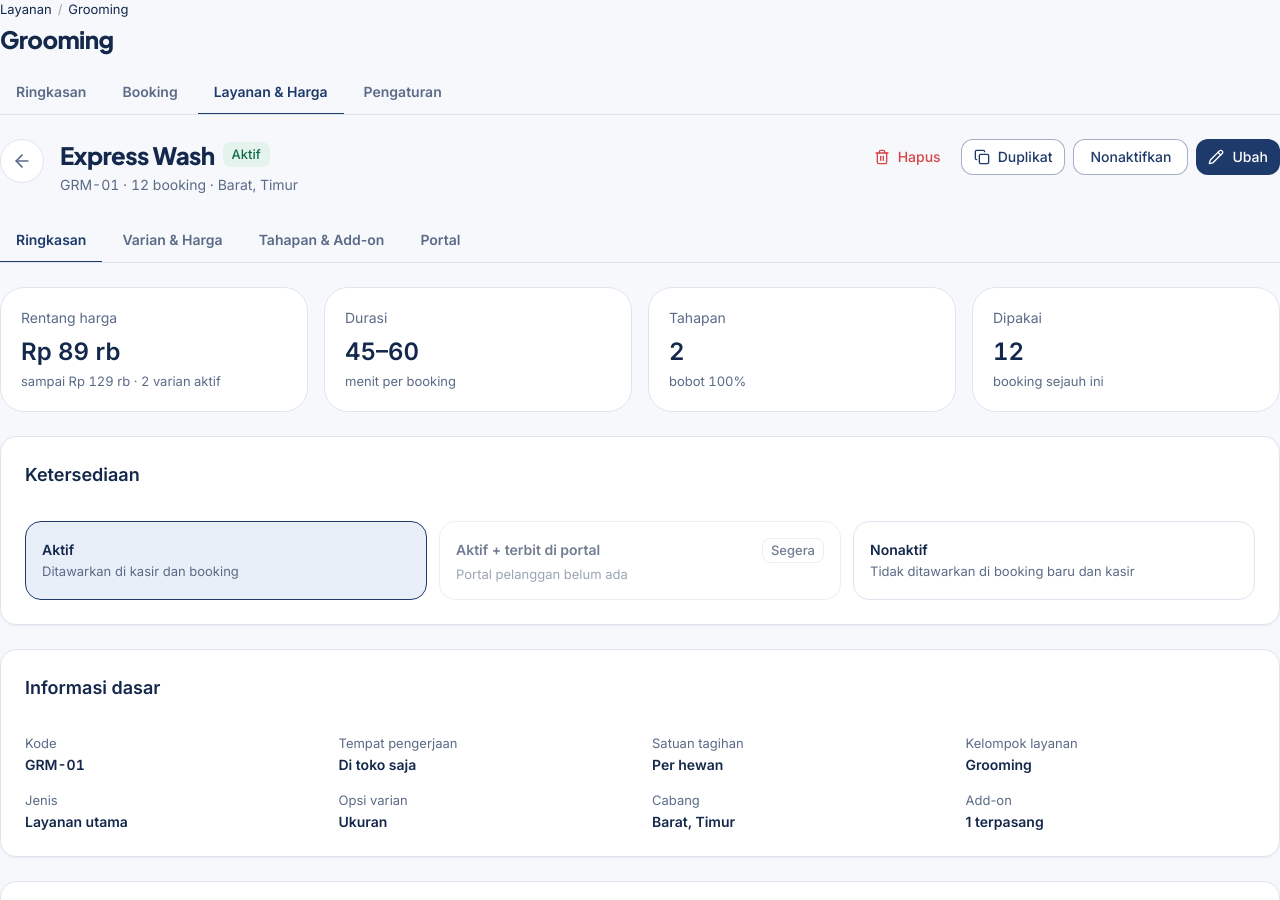
Scenario: GroomingServiceDetailScreen › edits weights and order in place and saves them with one button
Click the tab "Tahapan & Add-on".
click(322, 241)  # box [243,219,400,263]
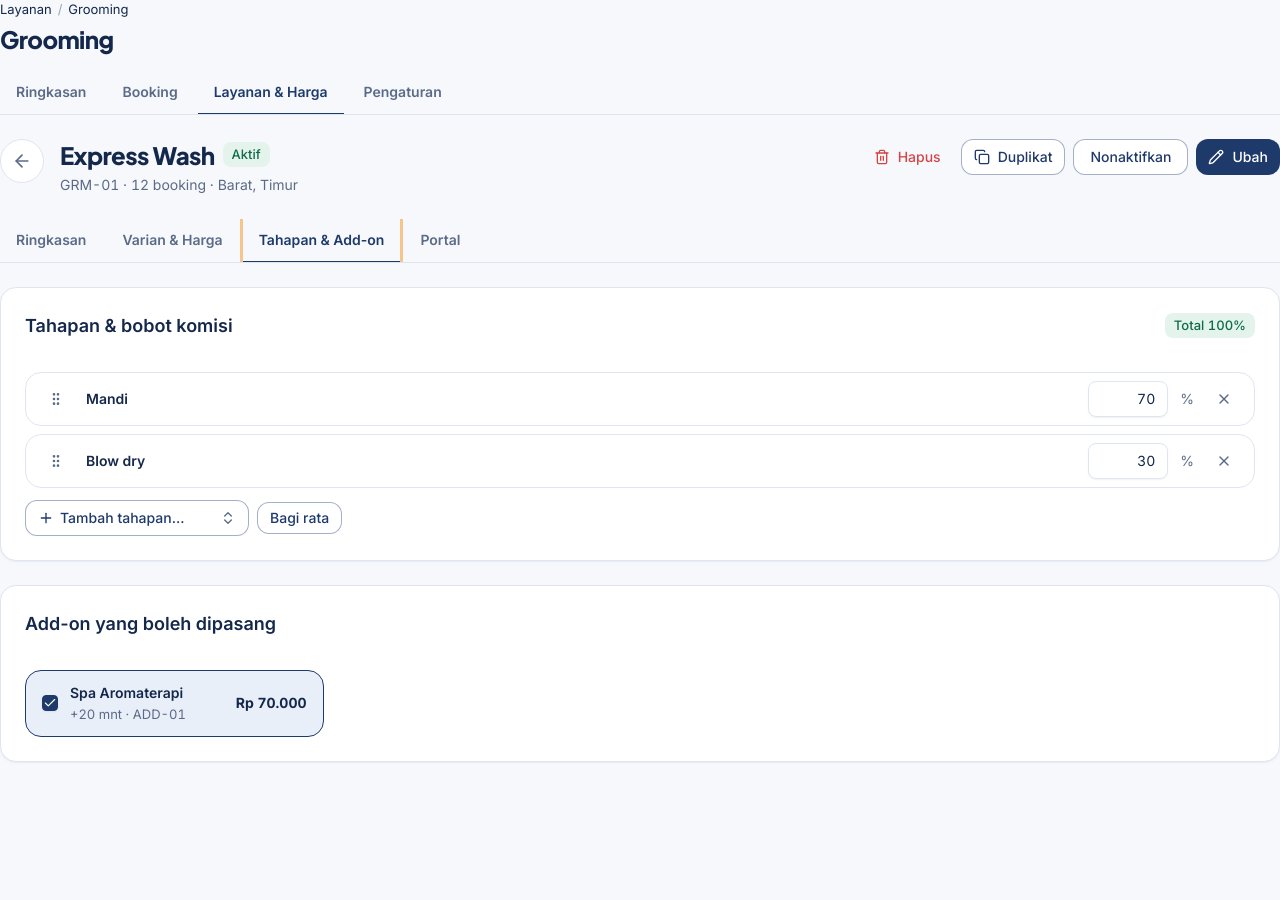
Clear the field named "Bobot Mandi (%)" at [1128, 399], box [1088,381,1168,417]
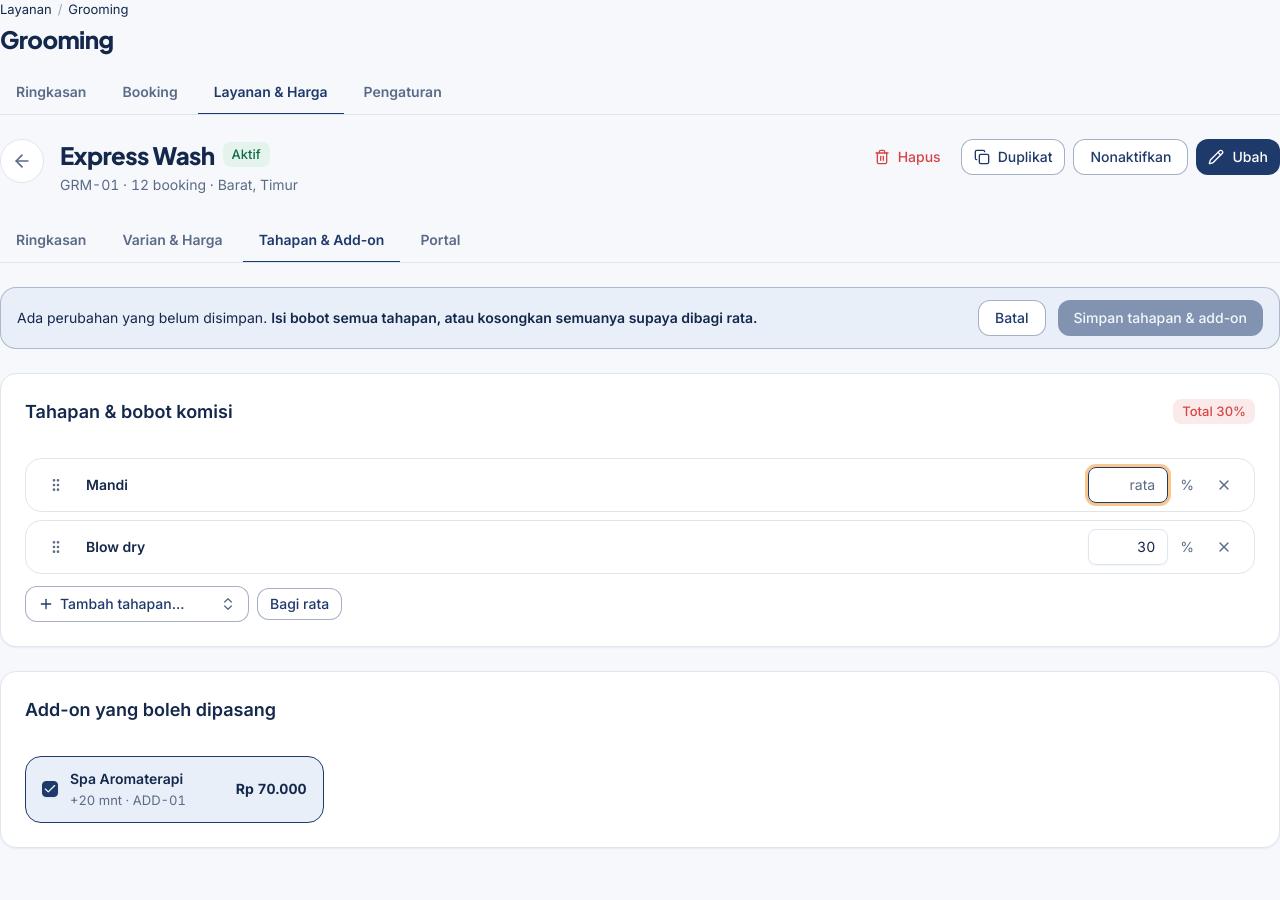
Type "60" into the field named "Bobot Mandi (%)".
click(1128, 485); type("60")  # box [1088,467,1168,503]
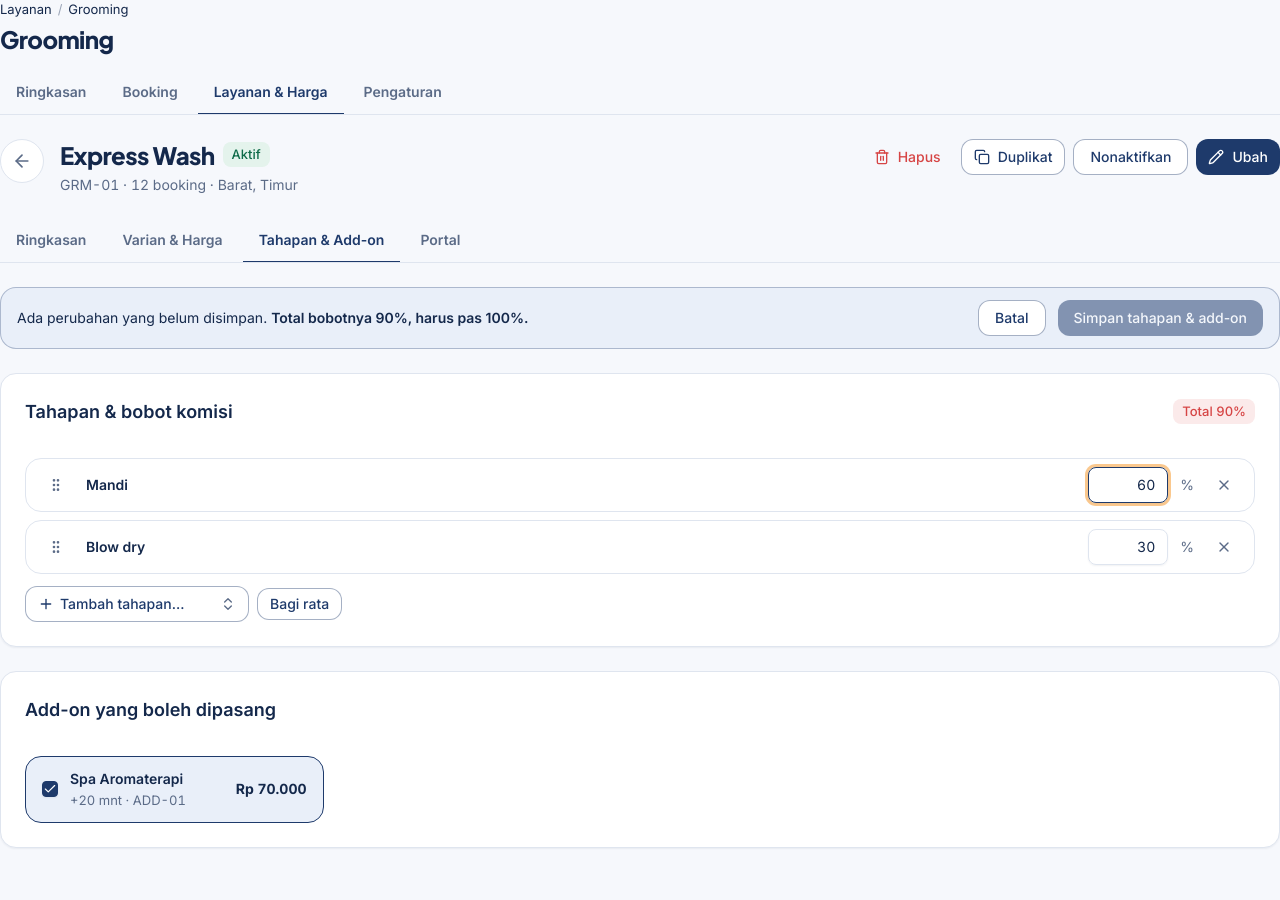
Expected: the button "Simpan tahapan & add-on" is disabled, [1058,300,1263,336]
Expected: the text "Total 90%" is shown, [1173,399,1255,424]
Expected: the text "Total bobotnya 90%, harus pas 100%." is shown, [271,309,528,326]
Click the button "Bagi rata".
click(300, 604)  # box [257,588,342,620]
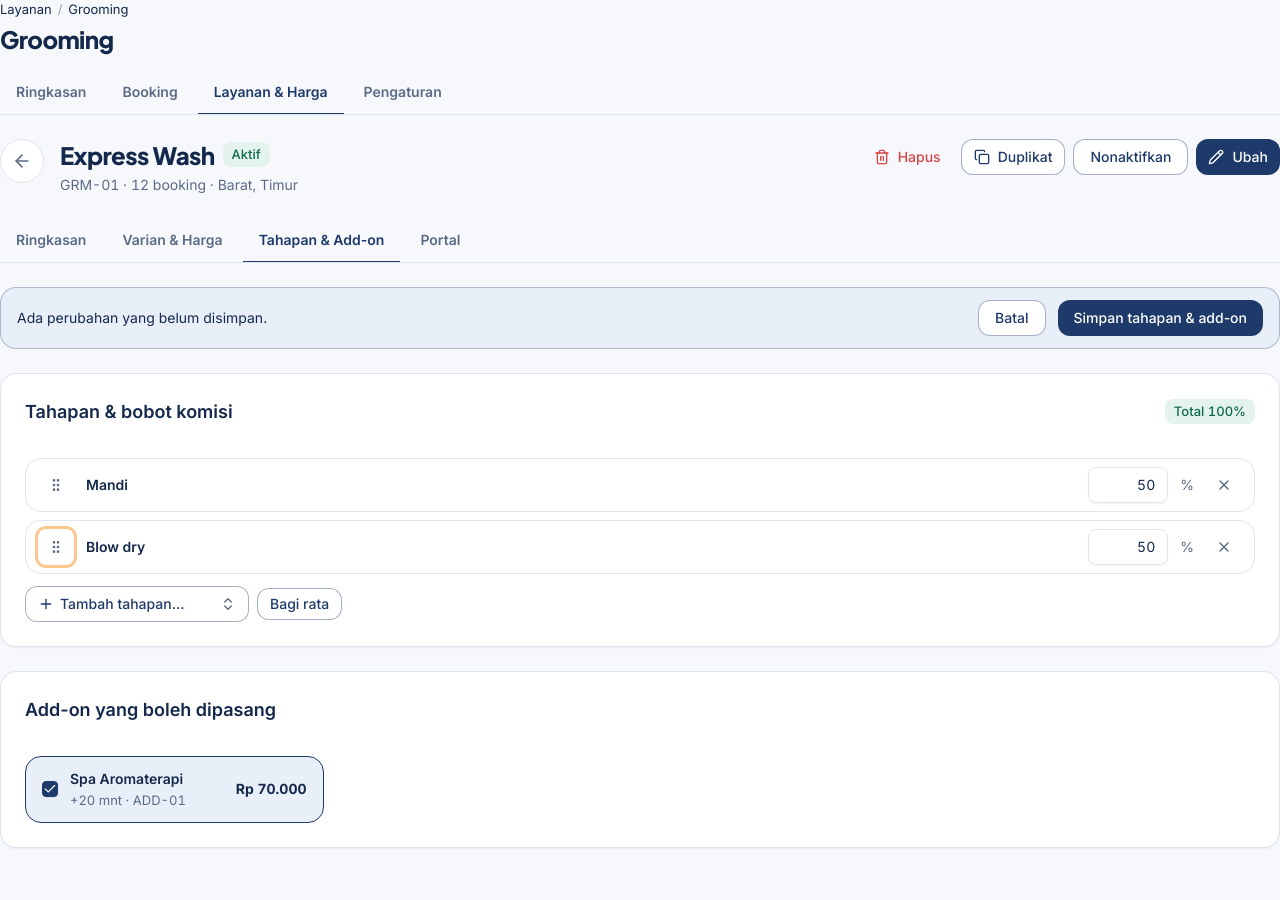
Expected: the field named "Bobot Mandi (%)" holds "50", [1088,467,1168,503]
Press Arrowup
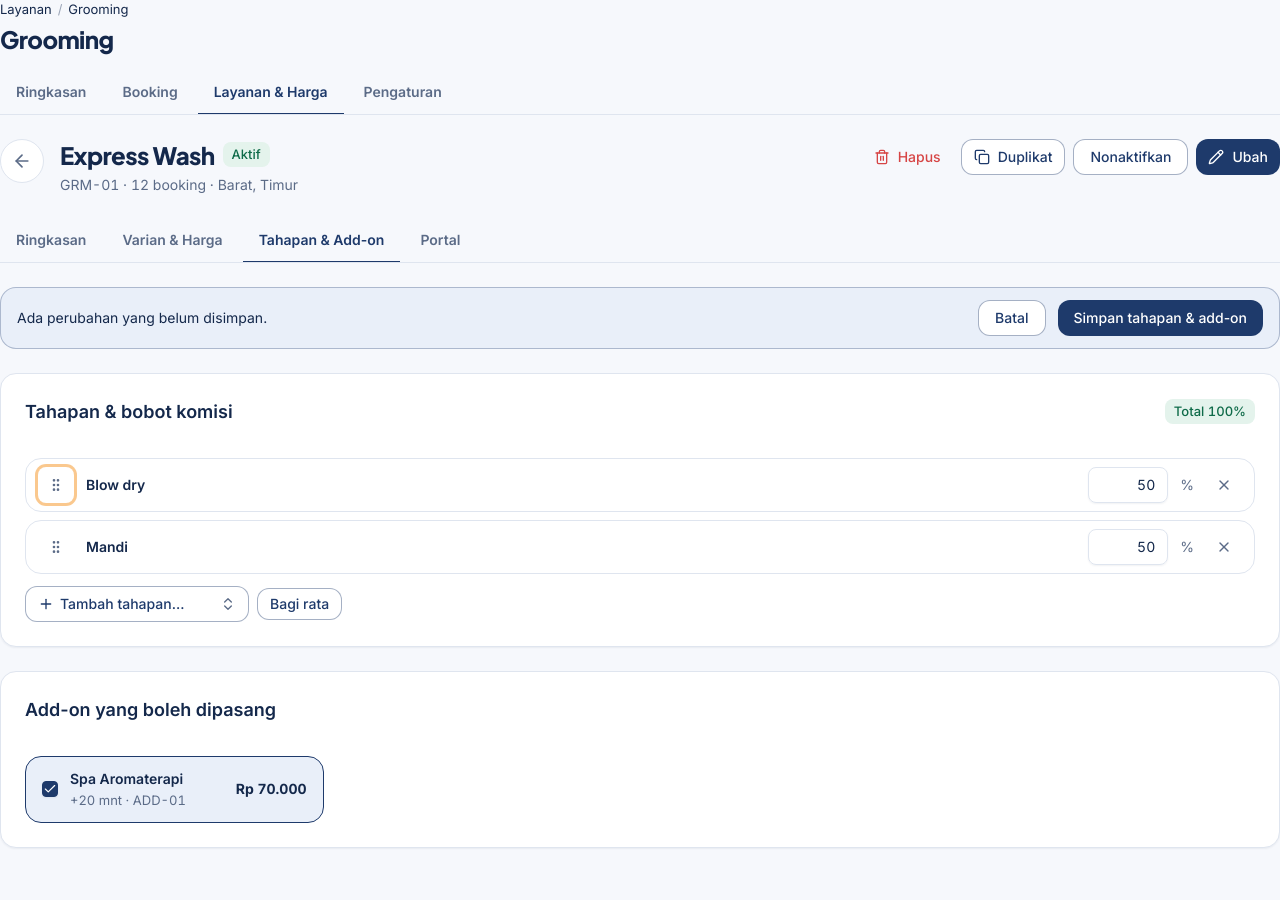
Click the button "Simpan tahapan & add-on".
click(1160, 318)  # box [1058,300,1263,336]
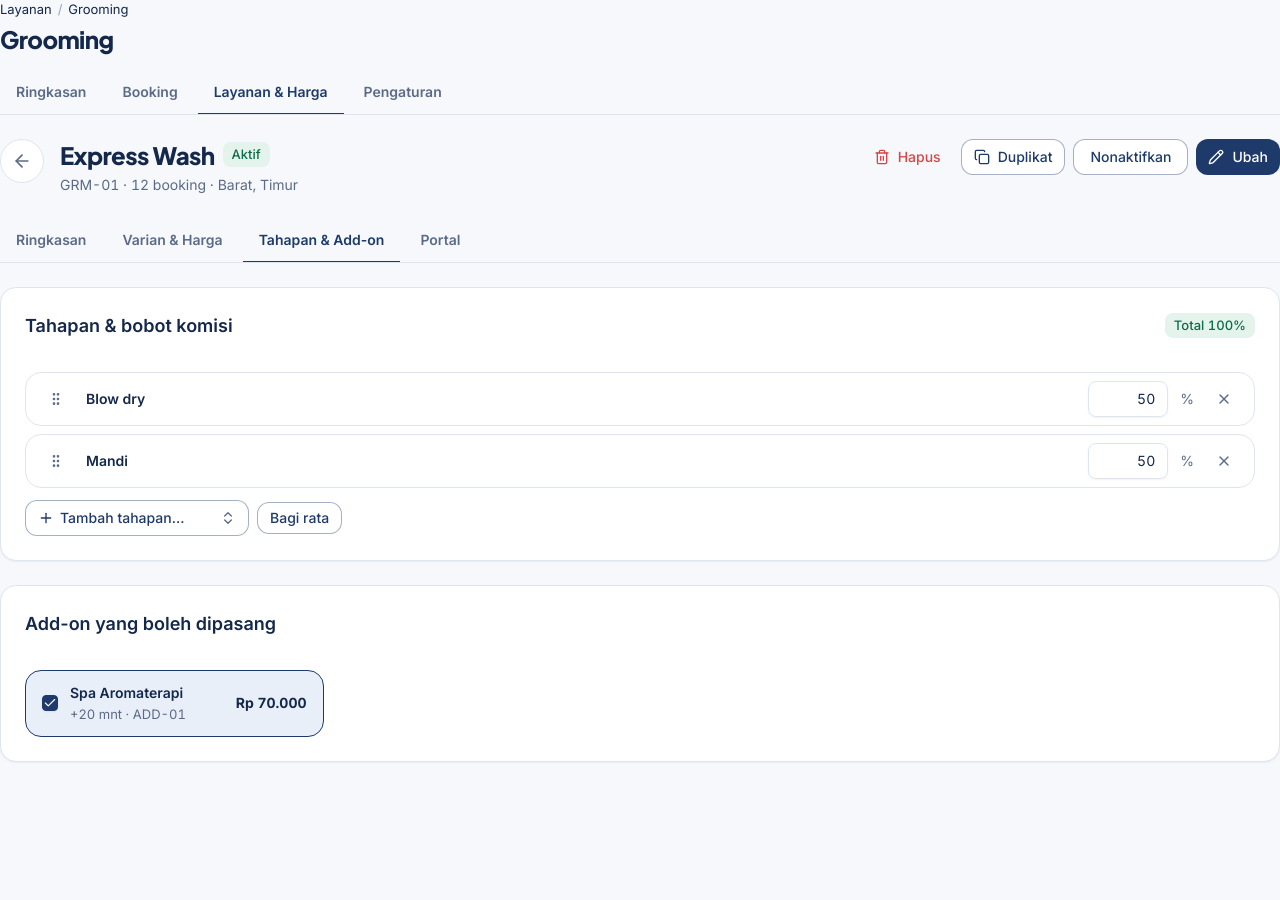
Expected: the tab "Tahapan & Add-on" is shown, [243,219,400,263]
Expected: the button "Simpan tahapan & add-on" is gone
